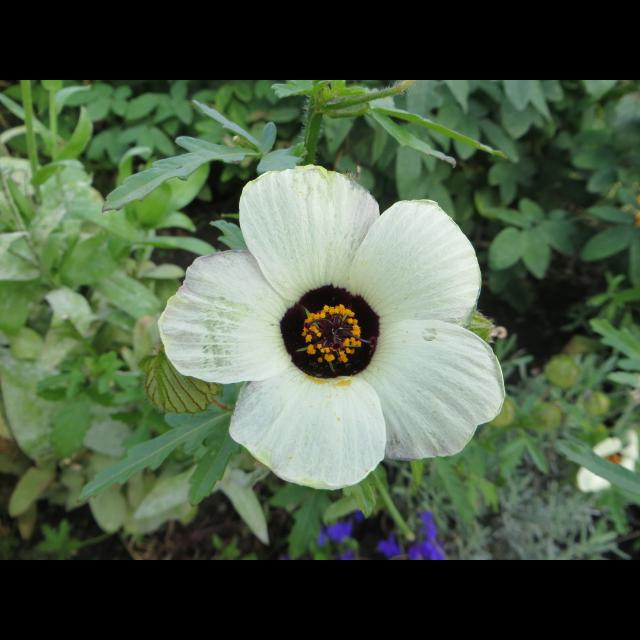Flower: (140, 166, 506, 492), (574, 432, 640, 492)
